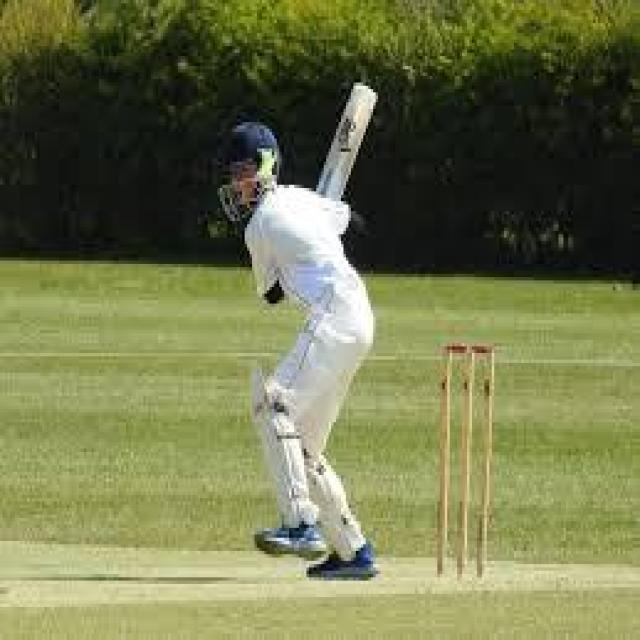bat: (318, 88, 379, 194)
toe: (347, 83, 383, 117)
